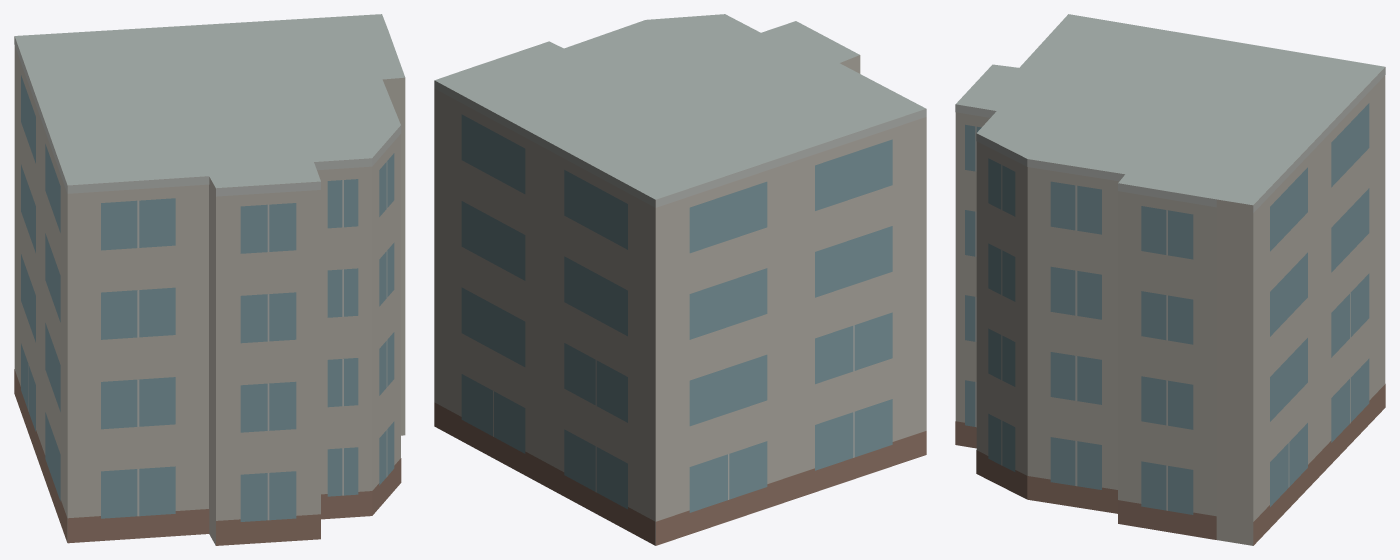
File: survey-upis-32971524.glb
The picture shows the model from 3 angles, left to right: view 1: azimuth 30°, elevation 25°; view 2: azimuth 150°, elevation 25°; view 3: azimuth 270°, elevation 25°; orthographic projection. The views are drawn at different scales.
Visible parts, largest first — view 1: survey-upis-32971524.tmp; view 2: survey-upis-32971524.tmp; view 3: survey-upis-32971524.tmp.
Part boxes in pixels (x1=…): survey-upis-32971524.tmp: x1=14, y1=14, x2=405, y2=545; survey-upis-32971524.tmp: x1=434, y1=14, x2=926, y2=545; survey-upis-32971524.tmp: x1=955, y1=14, x2=1385, y2=545.
Size of the model in its own units: 12.53 by 10.4 by 11.91.
